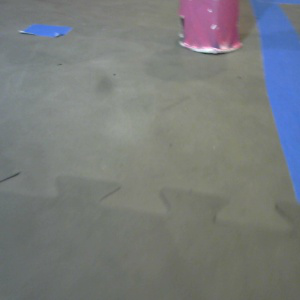right: (177, 1, 244, 56)
